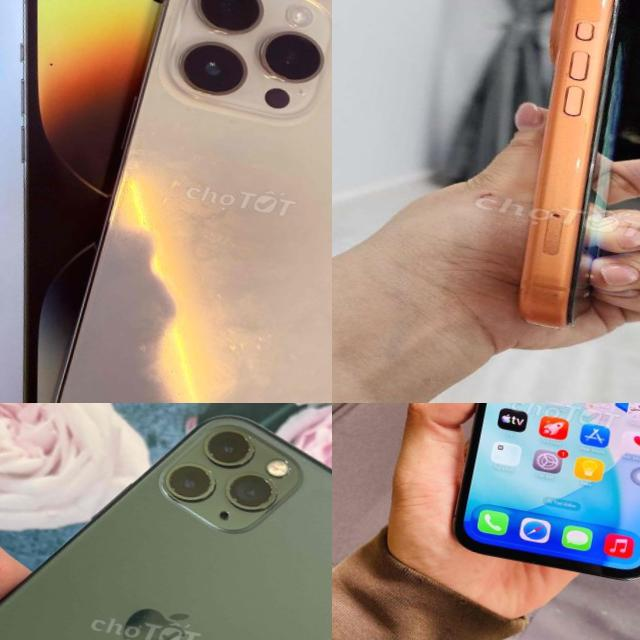scratch: (163, 416, 297, 522), (562, 148, 596, 182)
